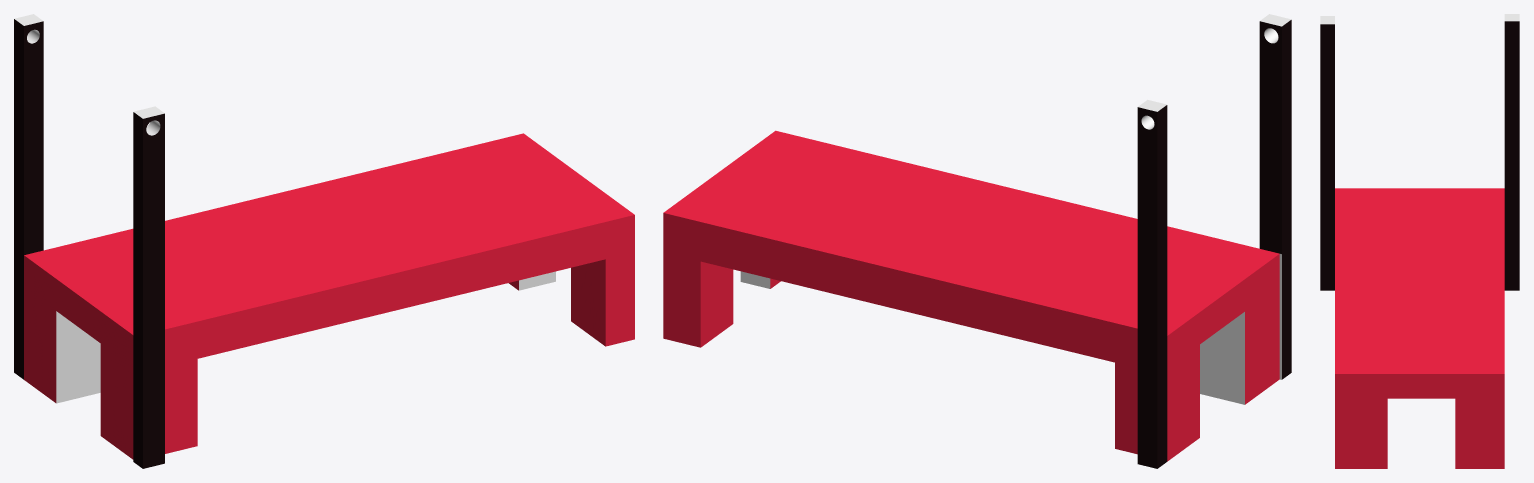
Rendered from Hanyinbench.dae.
The picture shows the model from 3 angles, left to right: view 1: azimuth 30°, elevation 25°; view 2: azimuth 150°, elevation 25°; view 3: azimuth 270°, elevation 25°; orthographic projection. The views are drawn at different scales.
Visible parts, largest first — view 1: SketchUp (×4); view 2: SketchUp (×4); view 3: SketchUp (×3).
Boxes of the visible parts, x1,y1,x2,y2 form: SketchUp (×4): [14, 19, 634, 468]; SketchUp (×4): [663, 20, 1291, 468]; SketchUp (×3): [1320, 21, 1519, 468].
Size of the model in its own units: 106 by 48.1 by 71.69.
